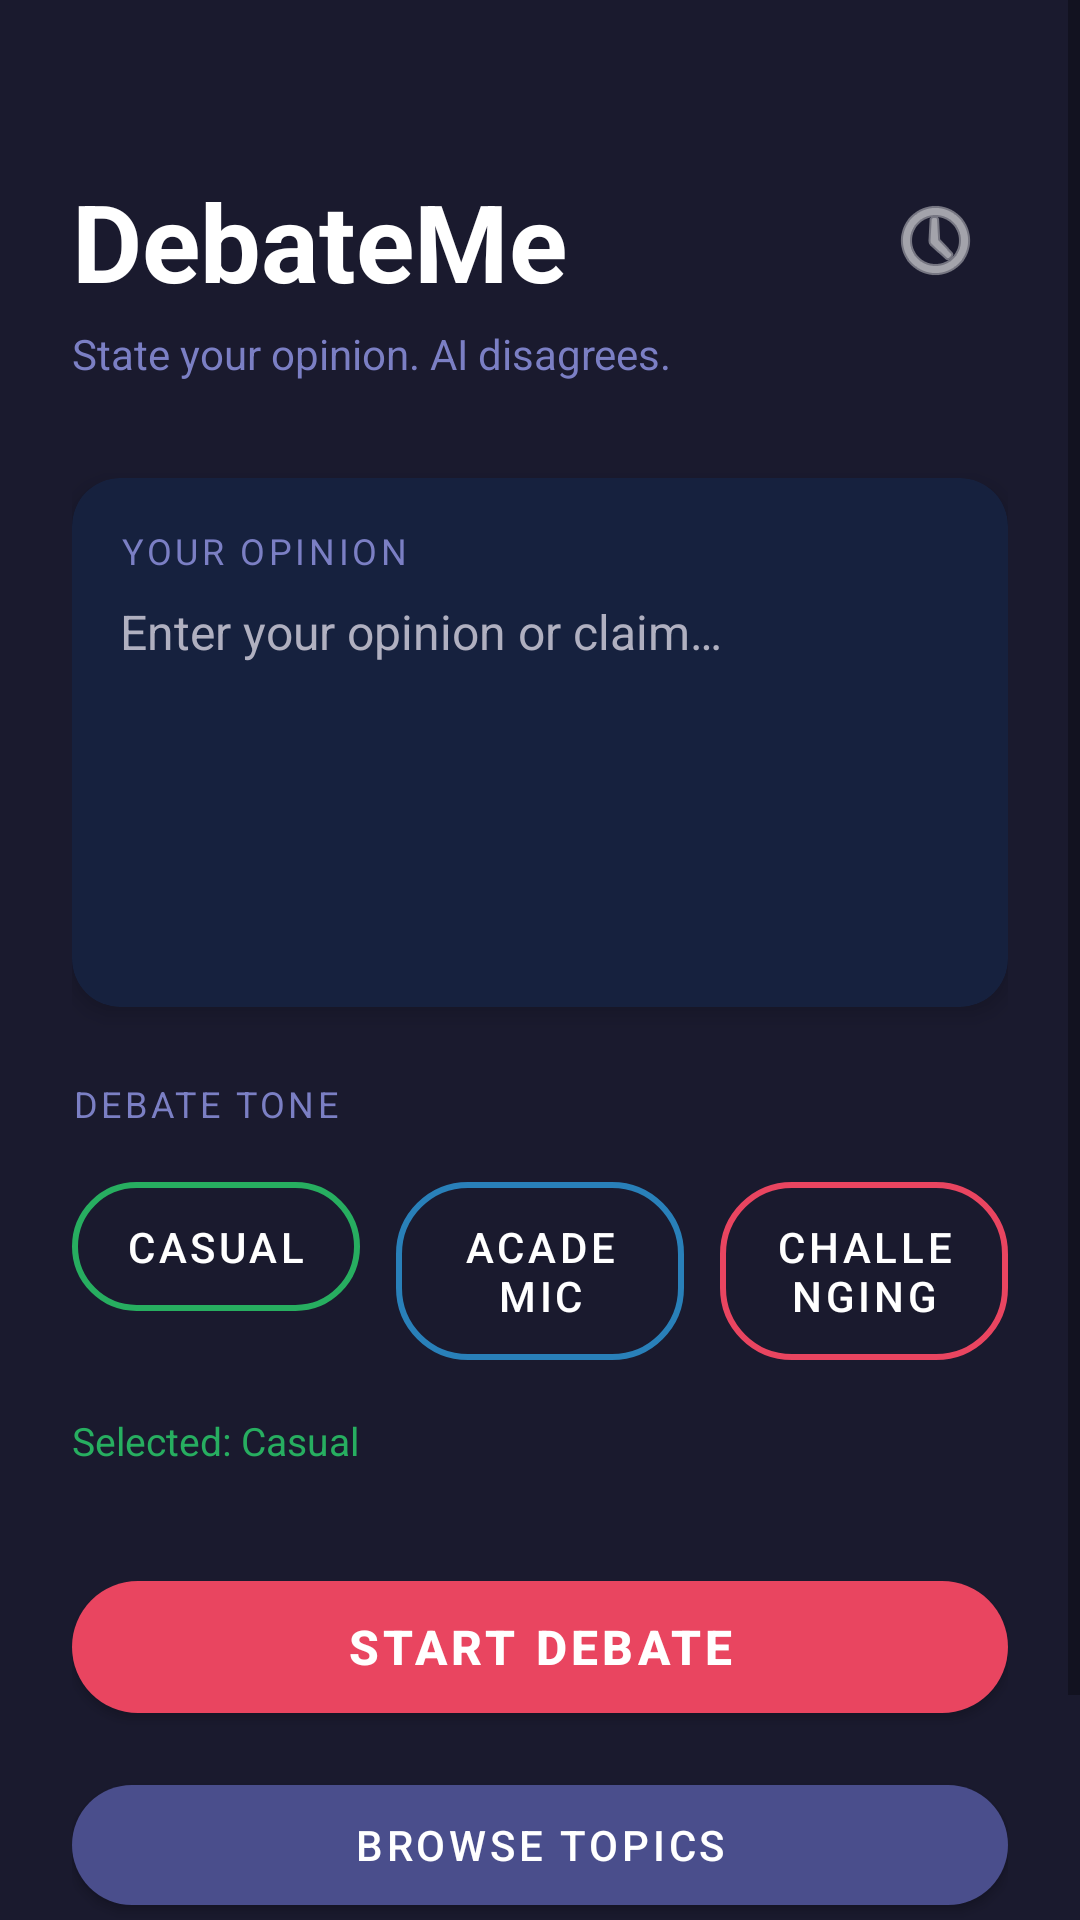

Icon bounding boxes for this 1080px x 1920px phone screenshot, format (x1, y1, x2, y2):
History: (901, 206, 970, 275)
